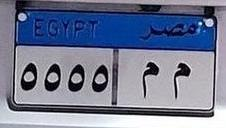5: (64, 61, 88, 97), (17, 60, 40, 93), (41, 61, 63, 95), (90, 63, 110, 95)
meem: (170, 57, 192, 105), (139, 59, 161, 102)
